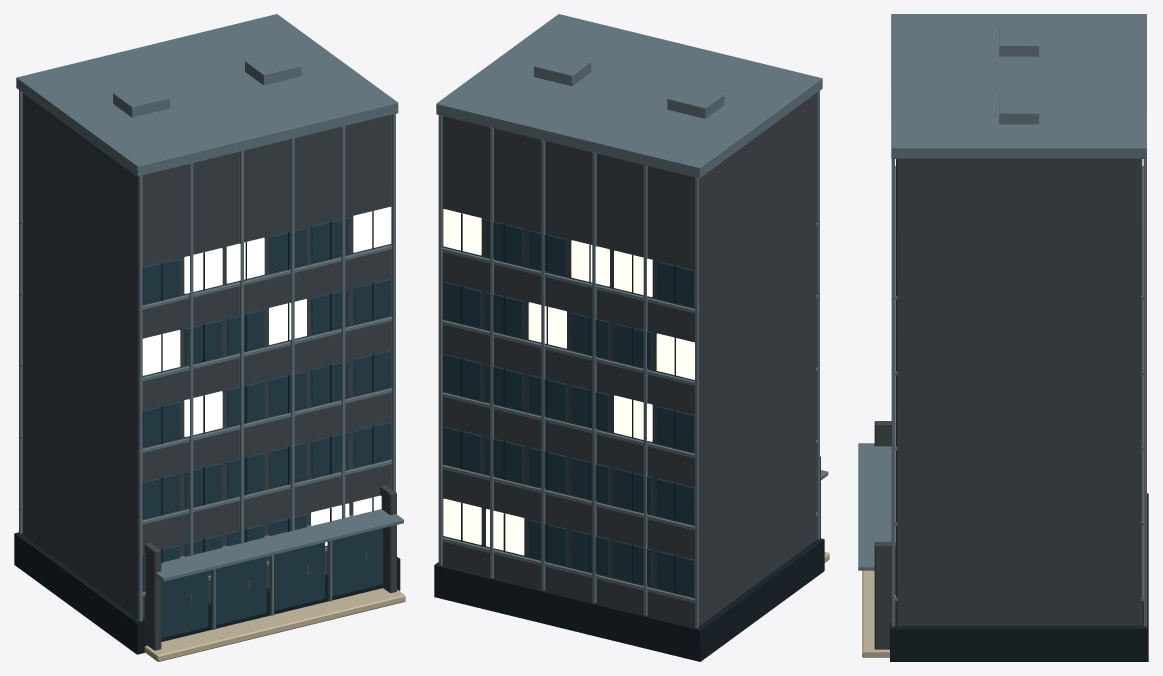
The model's file is commercial_block.glb.
The picture shows the model from 3 angles, left to right: view 1: azimuth 30°, elevation 25°; view 2: azimuth 150°, elevation 25°; view 3: azimuth 270°, elevation 25°; orthographic projection. The views are drawn at different scales.
Parts seen in each view (by area): view 1: Detail.commercial_block.Concrete, Detail.commercial_block.Metal, Detail.commercial_block.Glass, Detail.commercial_block.Light, Detail.commercial_block.Dark, Detail.commercial_block.Stone; view 2: Detail.commercial_block.Concrete, Detail.commercial_block.Metal, Detail.commercial_block.Glass, Detail.commercial_block.Dark, Detail.commercial_block.Light; view 3: Detail.commercial_block.Concrete, Detail.commercial_block.Metal, Detail.commercial_block.Dark, Detail.commercial_block.Stone.
Part boxes in pixels (box(x1,y1,x2,y2)): Detail.commercial_block.Concrete: box(22, 93, 396, 650); Detail.commercial_block.Metal: box(16, 14, 403, 629); Detail.commercial_block.Glass: box(142, 217, 391, 638); Detail.commercial_block.Light: box(142, 206, 391, 545); Detail.commercial_block.Dark: box(14, 211, 400, 654); Detail.commercial_block.Stone: box(144, 588, 405, 661); Detail.commercial_block.Concrete: box(443, 94, 820, 625); Detail.commercial_block.Metal: box(436, 14, 828, 628); Detail.commercial_block.Glass: box(443, 219, 694, 596); Detail.commercial_block.Dark: box(434, 213, 824, 661); Detail.commercial_block.Light: box(443, 209, 694, 555); Detail.commercial_block.Concrete: box(874, 159, 1142, 649); Detail.commercial_block.Metal: box(858, 14, 1146, 626); Detail.commercial_block.Dark: box(890, 493, 1148, 661); Detail.commercial_block.Stone: box(862, 570, 889, 657).
Size of the model in its own units: 10.4 by 18.8 by 9.42.
